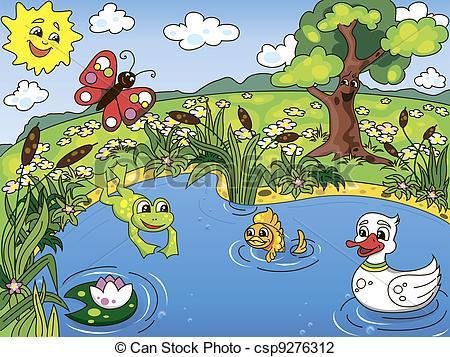bird: (341, 208, 440, 315)
